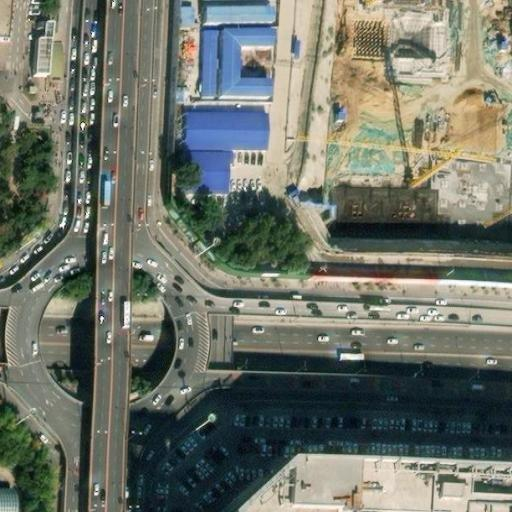building: (238, 450, 512, 512), (347, 7, 445, 61), (342, 184, 437, 232), (220, 23, 276, 95), (184, 112, 265, 147), (183, 146, 231, 192), (205, 2, 276, 24), (31, 15, 55, 77), (204, 22, 222, 94), (0, 487, 19, 511)
